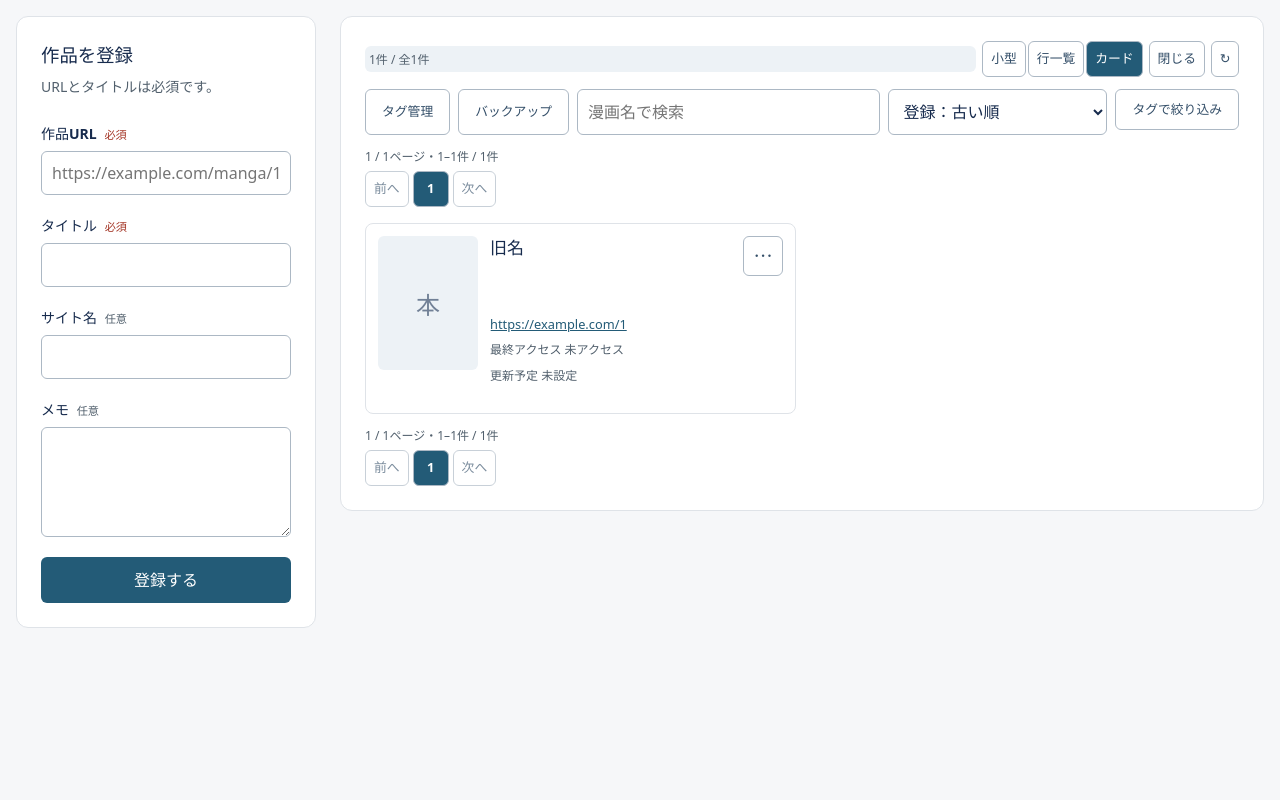
Test: 編集成功と入力を閉じる動作を保持し、再取得中/失敗は旧名を残して再送しない
expect the heading "旧名" is shown: met, box left=490, top=236, right=524, bottom=259
Click the button named "旧名の作品操作" at (763, 256), box left=743, top=236, right=783, bottom=276
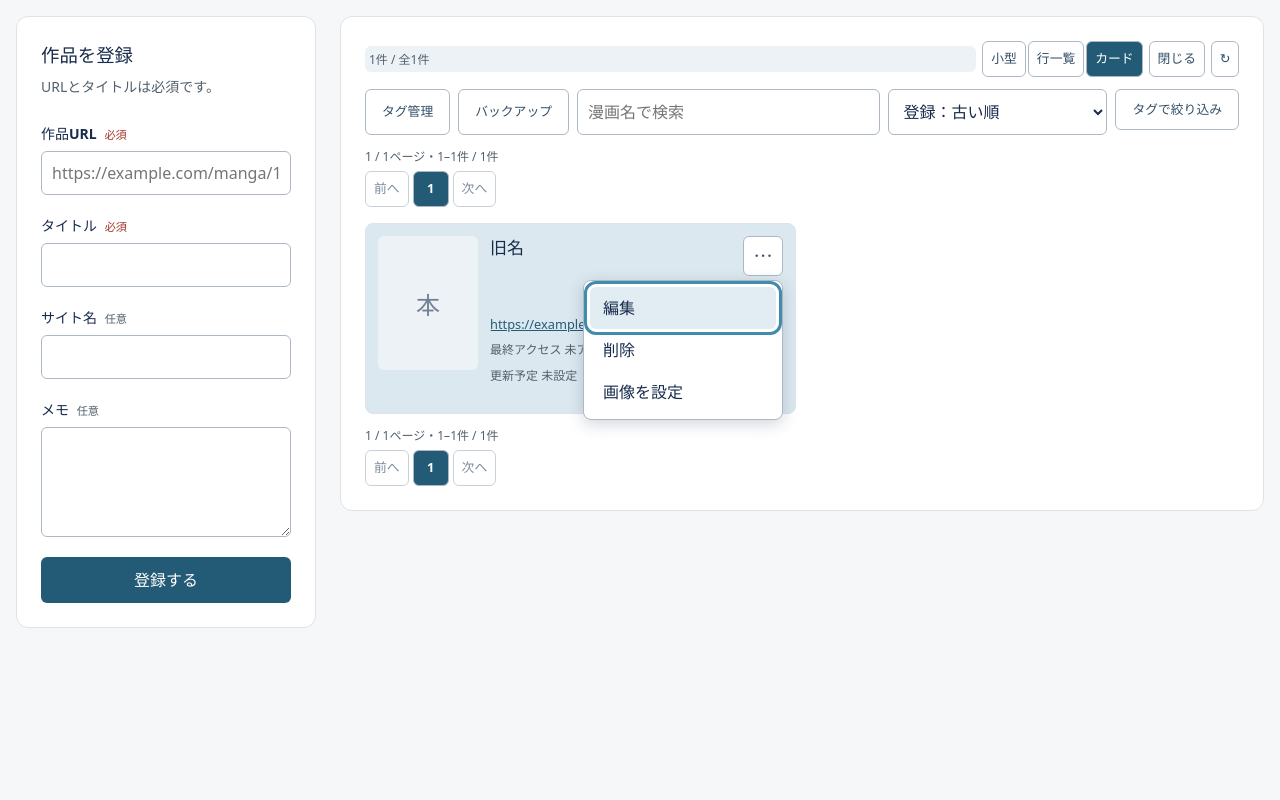
Click the button with aria-label "旧名を編集" at (683, 308), box left=590, top=287, right=776, bottom=329
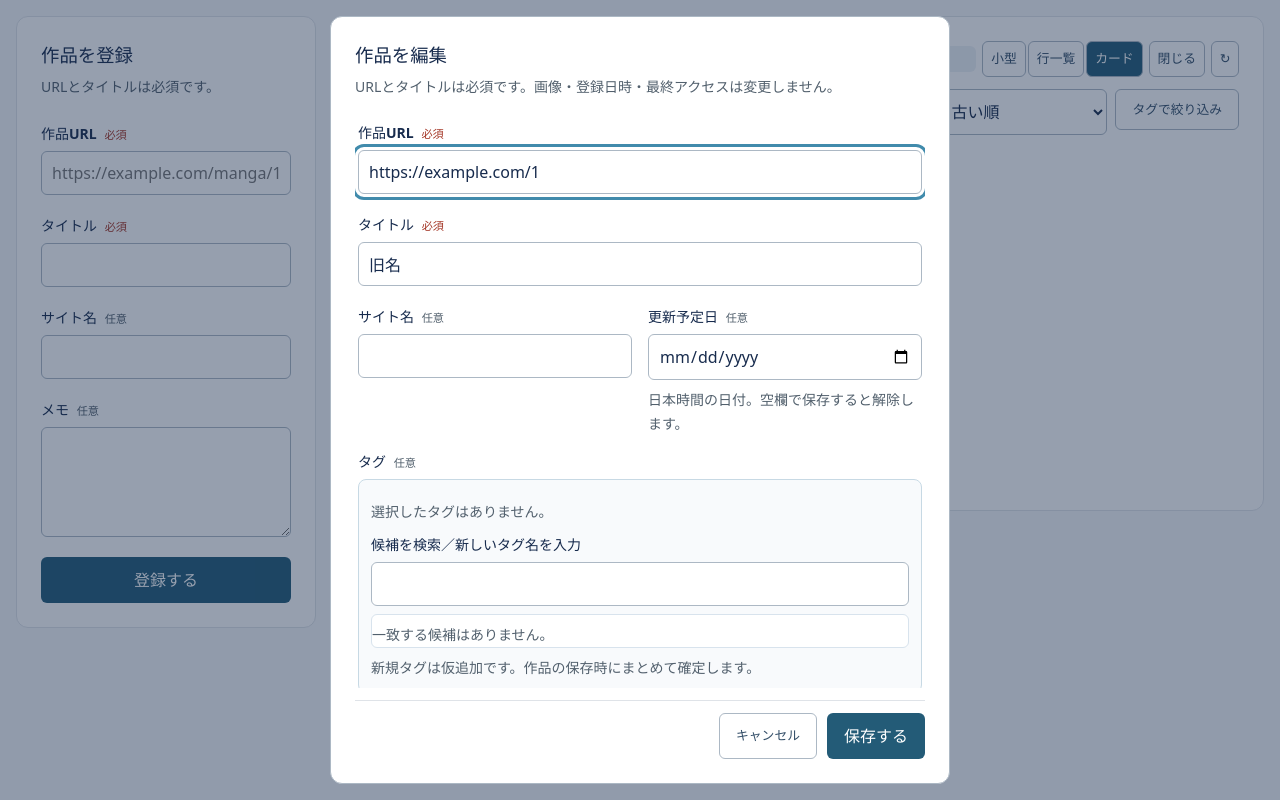
Replace the text in the field labelled "タイトル 必須" with "新名" at (640, 264), box left=358, top=242, right=922, bottom=286
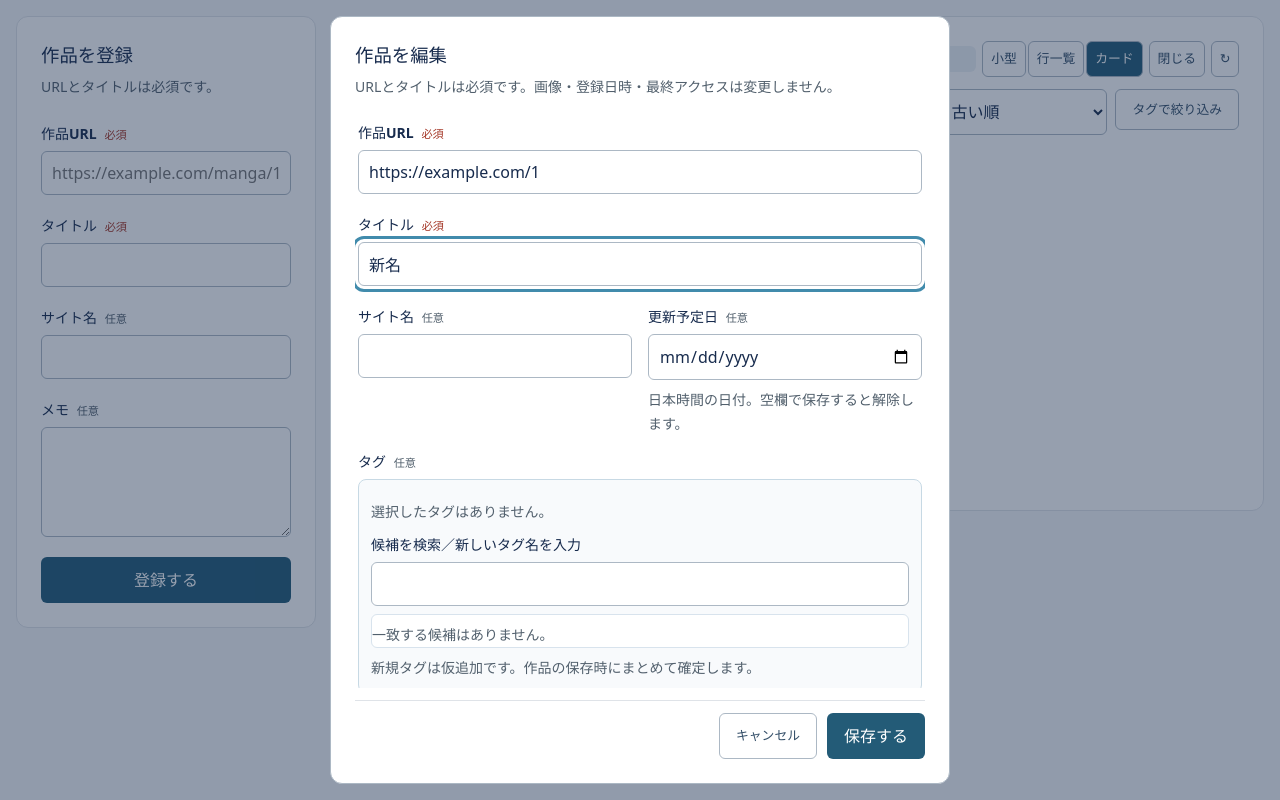
Click the button "保存する" at (876, 736), box left=827, top=713, right=925, bottom=759
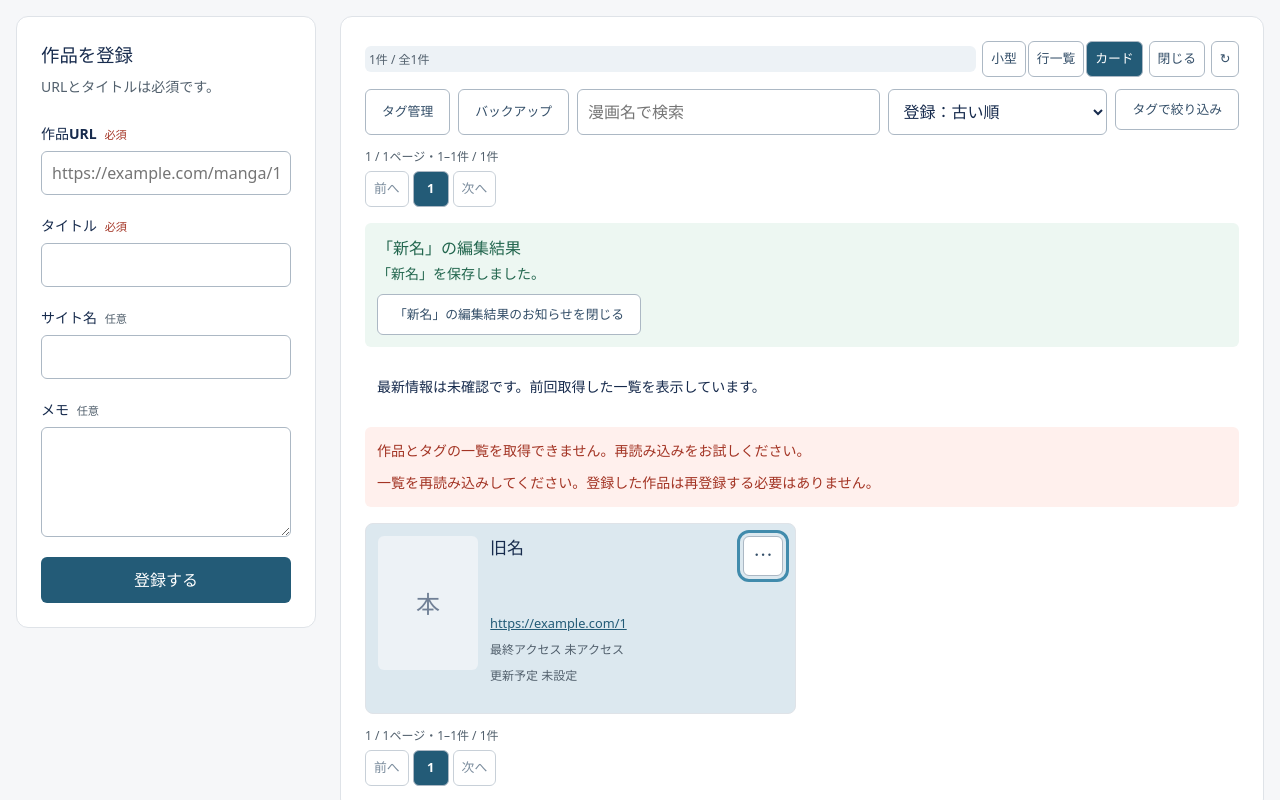
expect the text "「新名」を保存しました。" is shown: met, box left=377, top=264, right=545, bottom=283
expect the dialog is gone: met
expect the text "最新情報は未確認です。前回取得した一覧を表示しています。" is shown: met, box left=377, top=377, right=766, bottom=396
Click the button named "再読み込み" at (1225, 59), box left=1211, top=41, right=1239, bottom=77
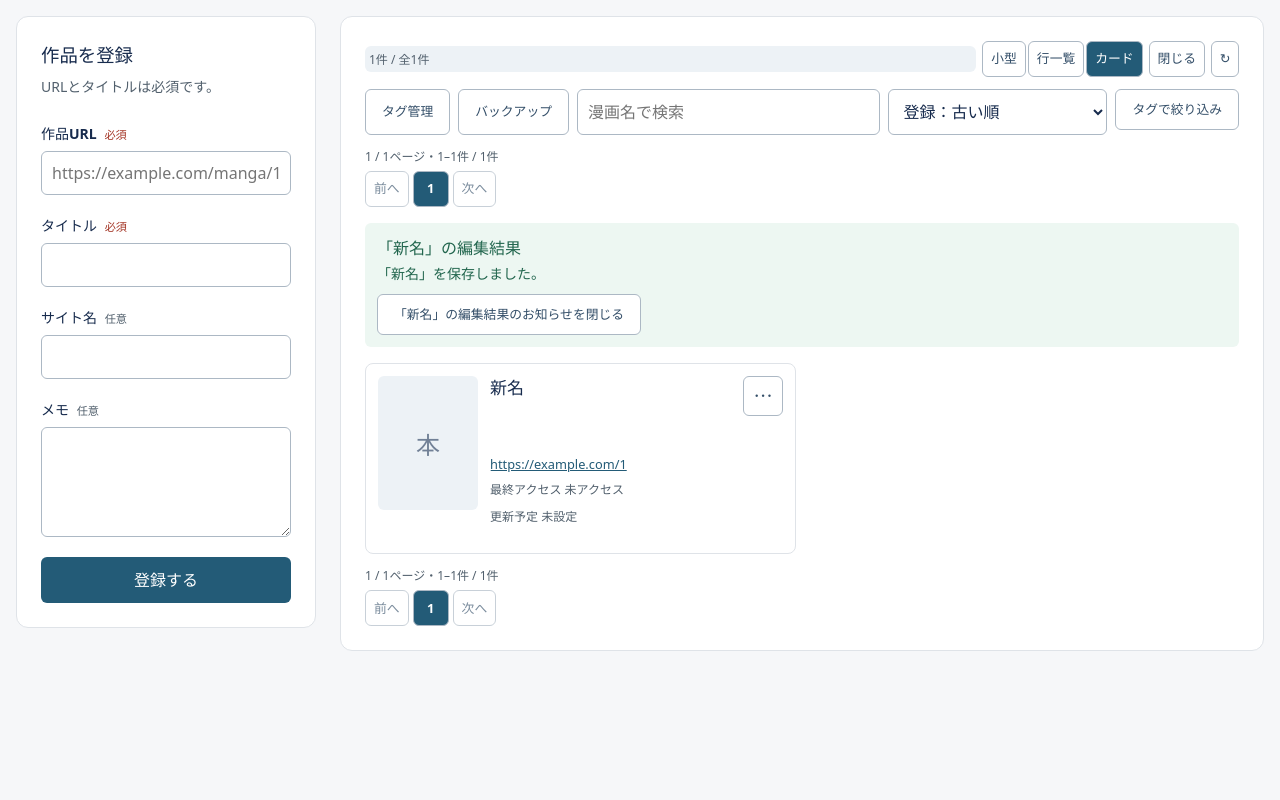
expect the text "「新名」を保存しました。" is shown: met, box left=377, top=264, right=545, bottom=283
expect the heading "新名" is shown: met, box left=490, top=376, right=524, bottom=399
